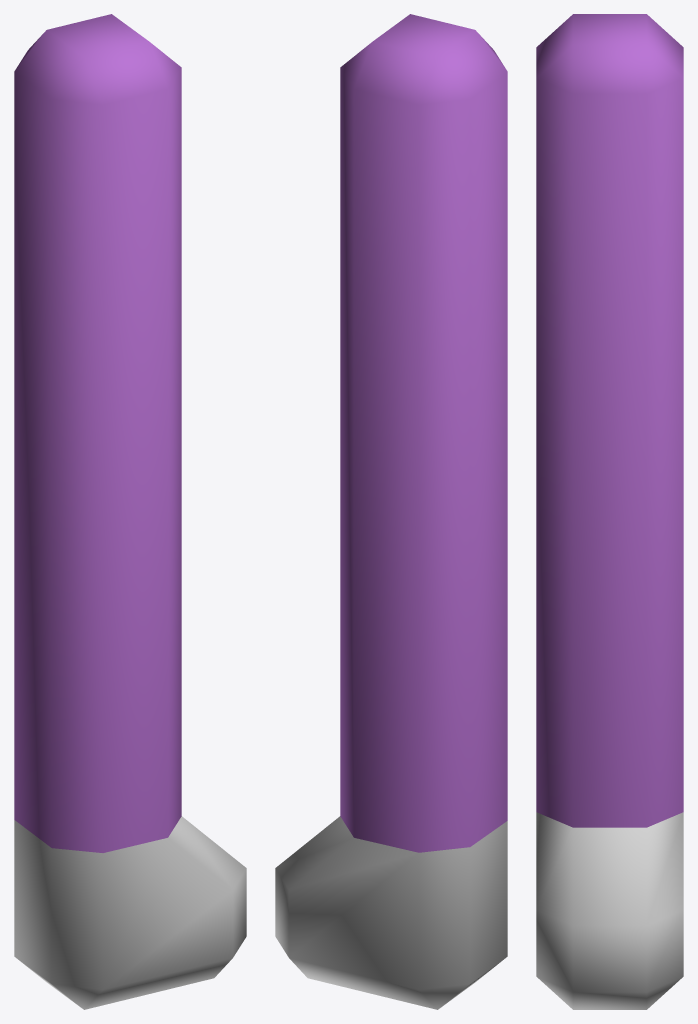
Rendered from MrTootsArm.fbx.
The picture shows the model from 3 angles, left to right: view 1: azimuth 30°, elevation 25°; view 2: azimuth 150°, elevation 25°; view 3: azimuth 270°, elevation 25°; orthographic projection. The views are drawn at different scales.
Visible parts, largest first — view 1: officertoots_LeftArm_mc, officertoots_LeftArm_mc_001; view 2: officertoots_LeftArm_mc, officertoots_LeftArm_mc_001; view 3: officertoots_LeftArm_mc, officertoots_LeftArm_mc_001.
Part boxes in pixels (bbox=[...]): officertoots_LeftArm_mc: bbox=[14, 14, 181, 852]; officertoots_LeftArm_mc_001: bbox=[14, 816, 246, 1009]; officertoots_LeftArm_mc: bbox=[340, 14, 507, 852]; officertoots_LeftArm_mc_001: bbox=[275, 816, 507, 1009]; officertoots_LeftArm_mc: bbox=[536, 14, 683, 827]; officertoots_LeftArm_mc_001: bbox=[536, 812, 683, 1009].
Bounding box in the file's own units: 3 × 14 × 2.
